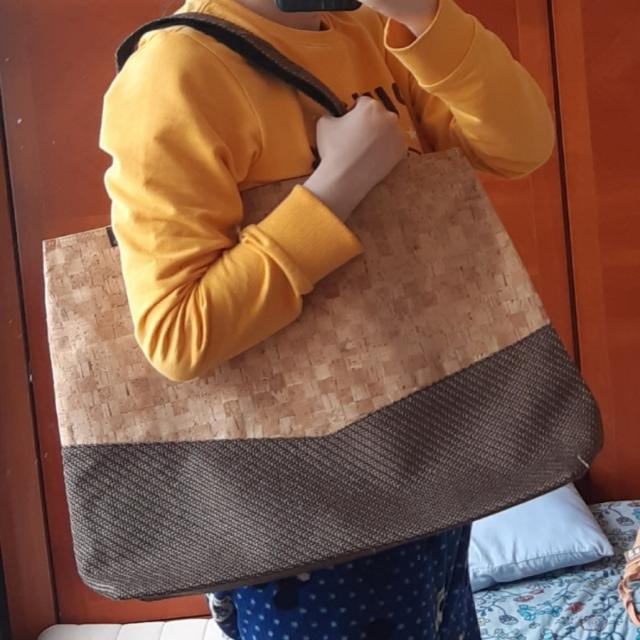ecobag: (31, 25, 610, 599)
